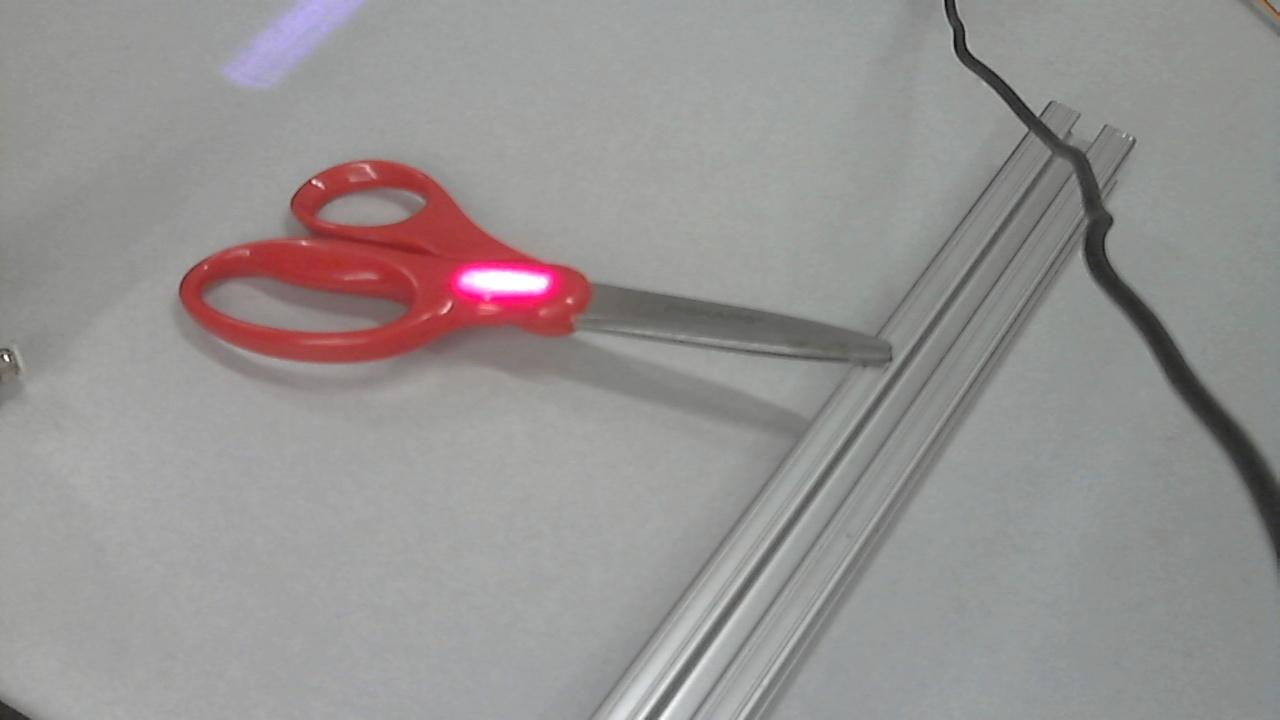Object scissors - Material plastic - Pdfname tYexGlkiIXWc: (410, 240, 578, 322)
